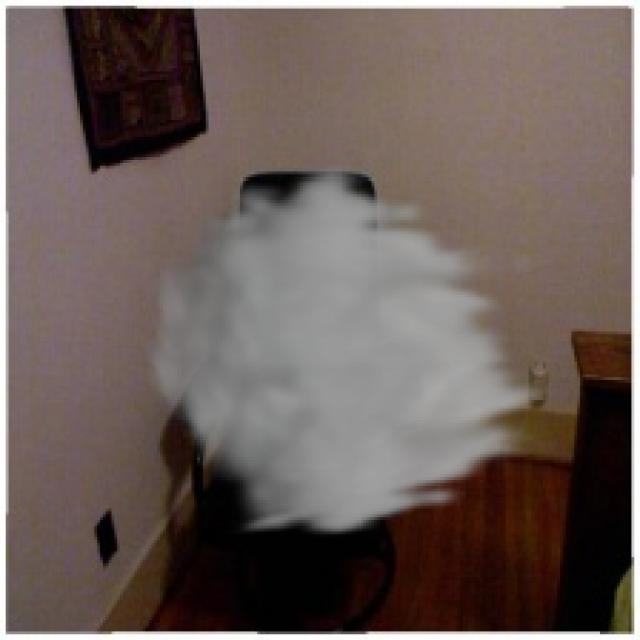smoke: (140, 160, 560, 540)
